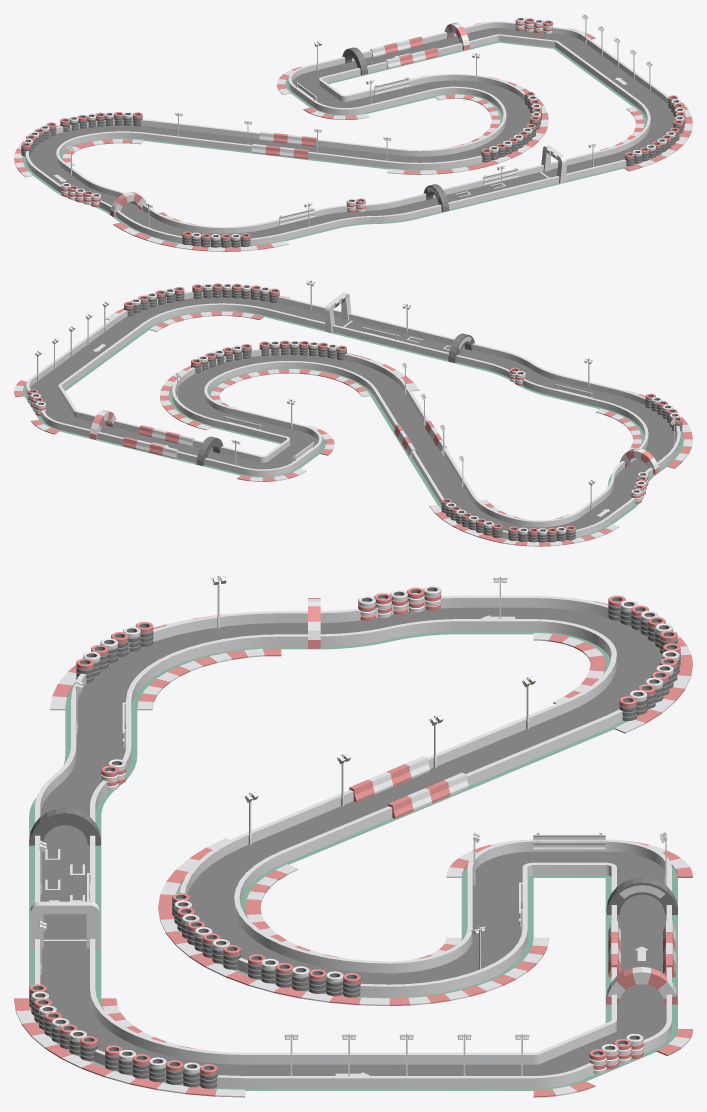
File: track_decorated.dae
3 views of the same model, one above another, from view 1: azimuth 30°, elevation 25°; view 2: azimuth 150°, elevation 25°; view 3: azimuth 270°, elevation 25° (orthographic). The views are drawn at different scales.
Parts seen in each view (by area): view 1: Track, Walls, Tires, Arches, Light_Posts; view 2: Track, Walls, Tires, Arches, Light_Posts; view 3: Track, Walls, Tires, Arches, Light_Posts.
Part boxes in pixels (x1,y1,x2,y2): Track: (14, 22, 692, 251); Walls: (25, 21, 668, 246); Tires: (21, 17, 685, 247); Arches: (110, 22, 566, 225); Light_Posts: (67, 14, 652, 227); Track: (14, 292, 692, 546); Walls: (26, 291, 680, 537); Tires: (28, 283, 682, 542); Arches: (89, 292, 659, 474); Light_Posts: (35, 280, 675, 510); Track: (14, 598, 692, 1097); Walls: (35, 595, 671, 1087); Tires: (29, 585, 680, 1088); Arches: (29, 598, 677, 1004); Light_Posts: (39, 575, 667, 1076).
Size of the model in its own units: 32.84 by 18.84 by 1.62.
